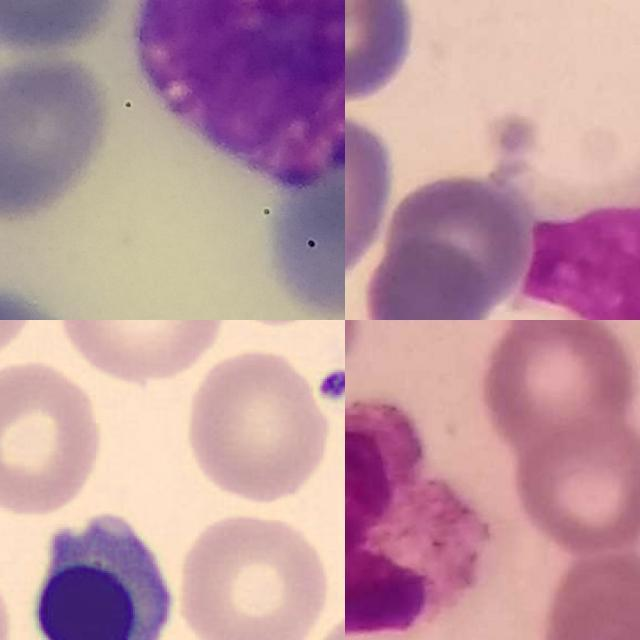Basophil: (134, 0, 345, 191)
Lymphocyte: (14, 502, 186, 640)
Monocyte: (518, 137, 640, 320)
Neutrophil: (345, 401, 484, 640)
Platelets: (312, 364, 345, 405)
RBC: (180, 347, 334, 506), (172, 507, 334, 640), (0, 356, 108, 518), (49, 320, 229, 386)
